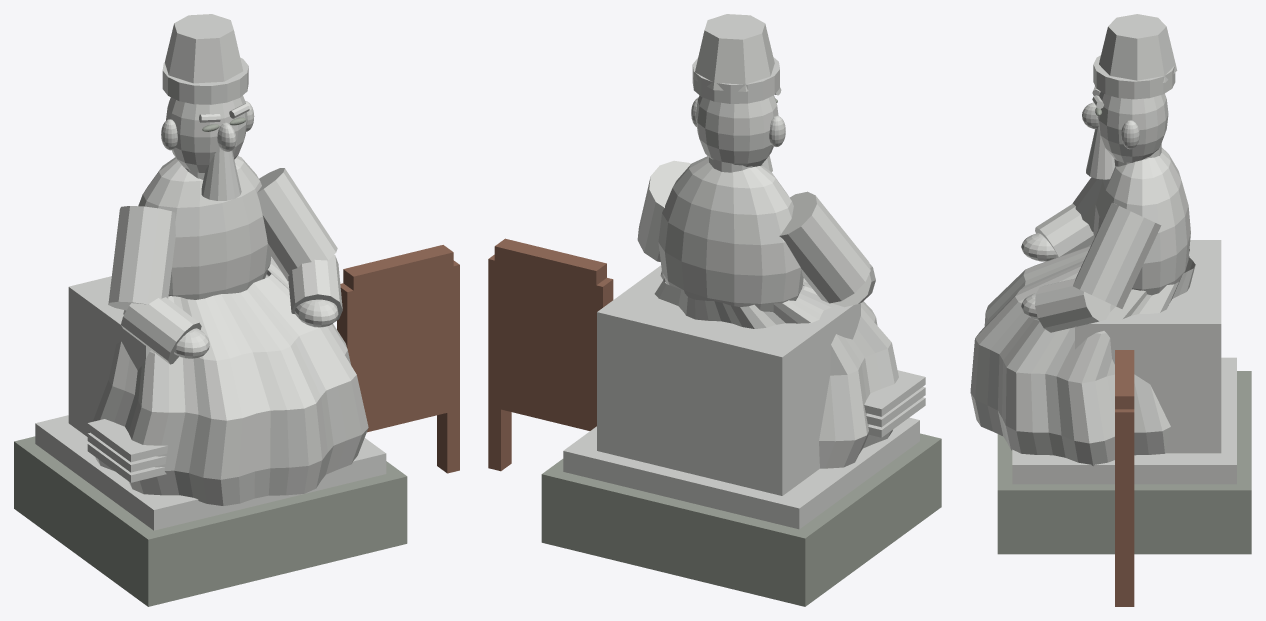
Rendered from sushi-statue.glb.
3 views of the same model, side by side, from view 1: azimuth 30°, elevation 25°; view 2: azimuth 150°, elevation 25°; view 3: azimuth 270°, elevation 25° (orthographic). The views are drawn at different scales.
Visible parts, largest first — view 1: sushi-statue; view 2: sushi-statue; view 3: sushi-statue.
Part boxes in pixels (<box>): sushi-statue: <box>14,14,459,606</box>; sushi-statue: <box>488,14,941,606</box>; sushi-statue: <box>970,14,1251,606</box>.
Bounding box in the file's own units: 2.09 × 2.64 × 1.44.
